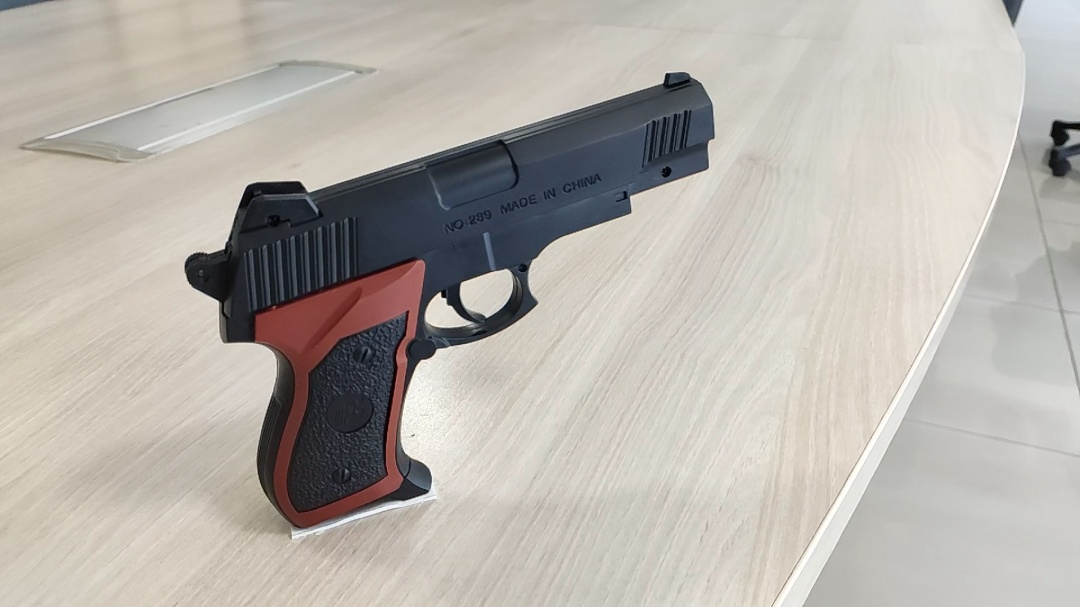gun: (422, 219, 518, 364)
